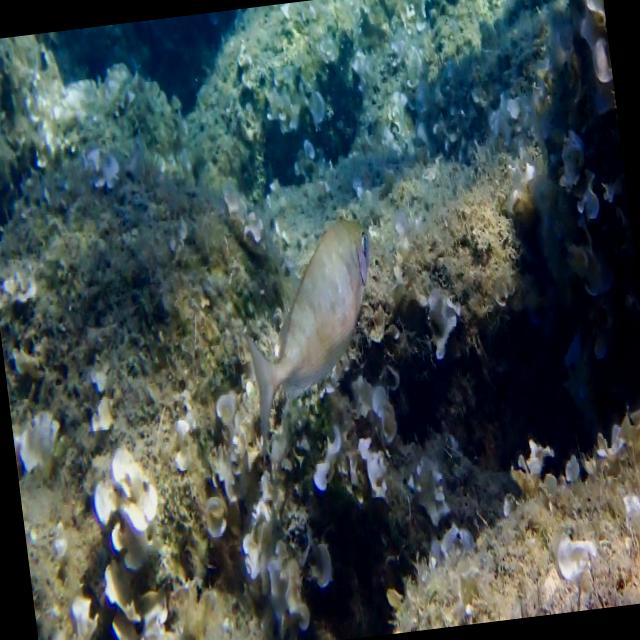Sokar Baligi: (213, 191, 403, 474)
